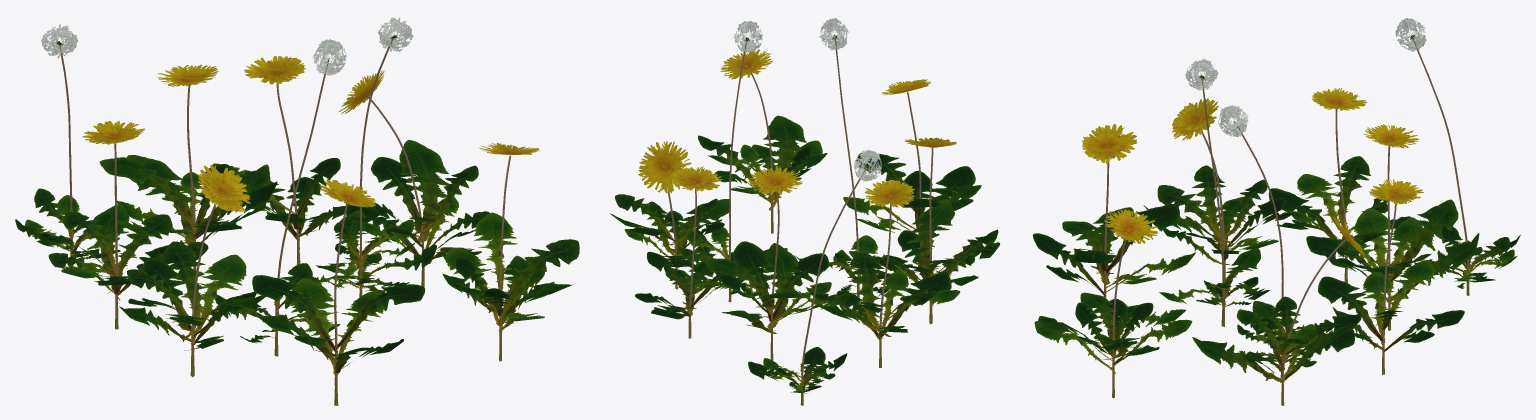
3 renders of one model, left to right at view 1: azimuth 30°, elevation 25°; view 2: azimuth 150°, elevation 25°; view 3: azimuth 270°, elevation 25°, orthographic. The views are drawn at different scales.
Parts seen in each view (by area): view 1: SM_Dandelion_02_LOD0; view 2: SM_Dandelion_02_LOD0; view 3: SM_Dandelion_02_LOD0.
Boxes of the visible parts, x1,y1,x2,y2 form: SM_Dandelion_02_LOD0: (15, 17, 579, 405); SM_Dandelion_02_LOD0: (610, 18, 999, 405); SM_Dandelion_02_LOD0: (1032, 18, 1520, 405).
Bounding box in the file's own units: 0.968 × 0.71 × 1.1.
1 material, 1 textured.
